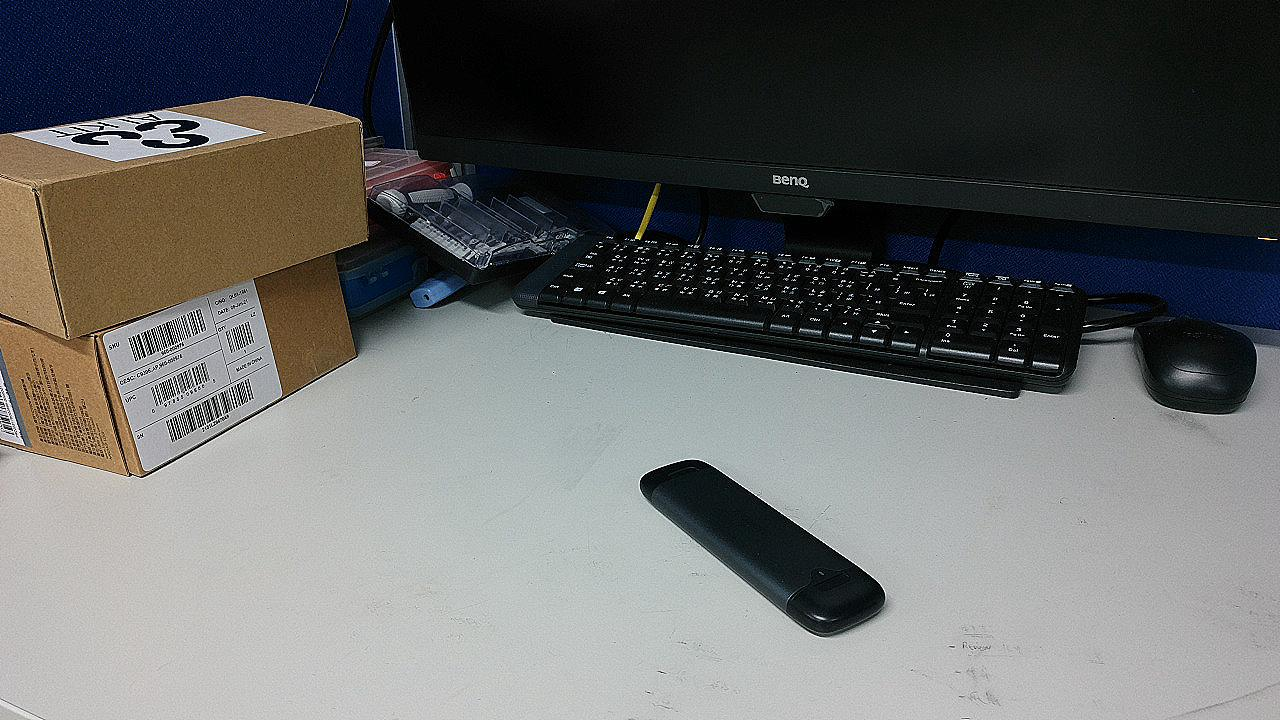circle: (961, 405, 1101, 475)
